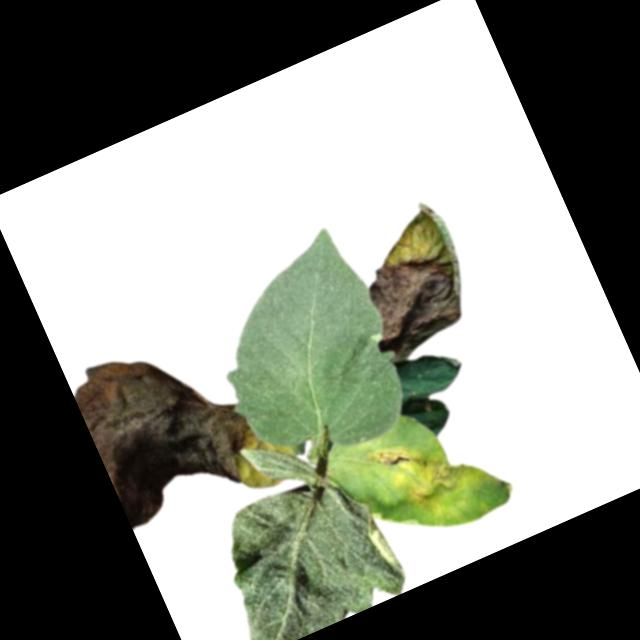Late_blight: (65, 316, 271, 532), (333, 195, 491, 368), (368, 420, 478, 525)
healthy: (181, 220, 425, 485), (194, 457, 412, 640), (237, 426, 319, 505)
